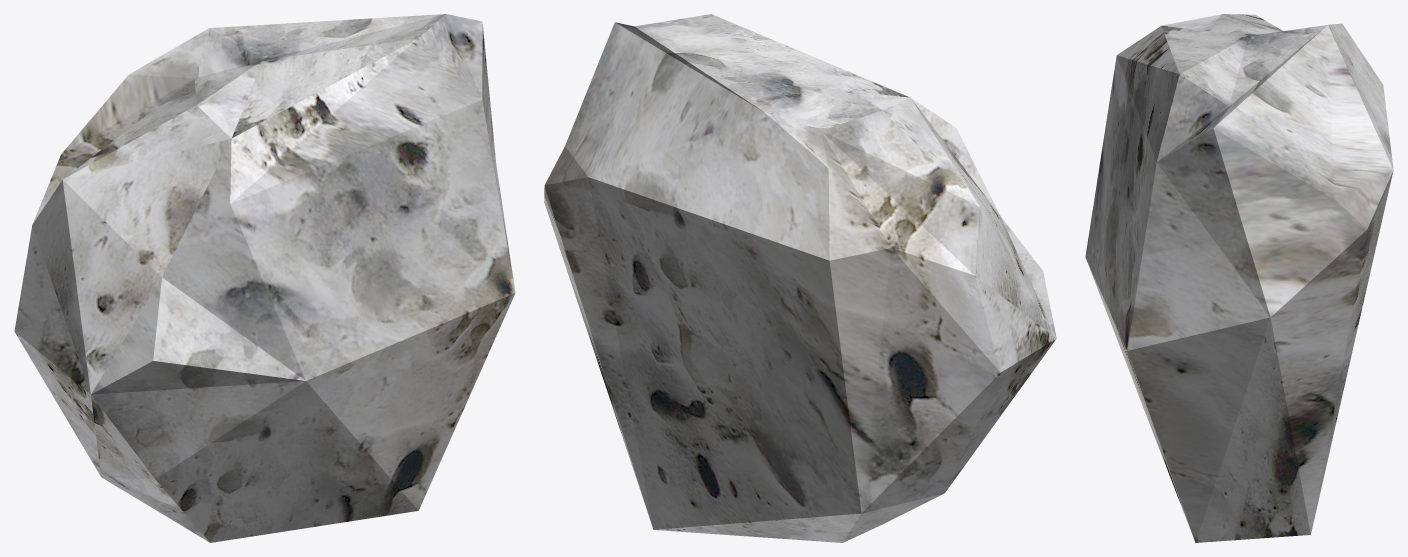
The picture shows the model from 3 angles, left to right: view 1: azimuth 30°, elevation 25°; view 2: azimuth 150°, elevation 25°; view 3: azimuth 270°, elevation 25°; orthographic projection. The views are drawn at different scales.
Visible parts, largest first — view 1: glbxzcom-st00061; view 2: glbxzcom-st00061; view 3: glbxzcom-st00061.
Boxes of the visible parts, x1=… form: glbxzcom-st00061: x1=14, y1=14, x2=515, y2=542; glbxzcom-st00061: x1=544, y1=14, x2=1056, y2=542; glbxzcom-st00061: x1=1085, y1=14, x2=1393, y2=542.
Size of the model in its own units: 0.7509 by 0.724 by 0.4354.
Materials: 1 (1 with a texture image).
